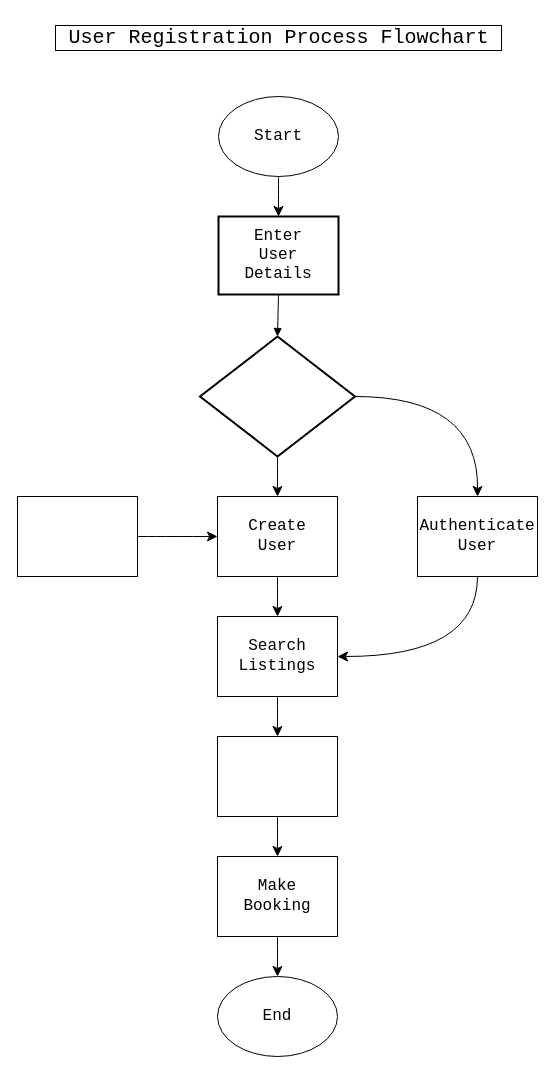
Some shapes in this 555 by 1074 pixel diagram are drawn without their labels. The centre of each missing label's shape, as x and y in pixels:
"Log In Credentials" belongs at pixel 77 536.
"Select Property" belongs at pixel 277 776.
"Valid User Details" belongs at pixel 277 396.
